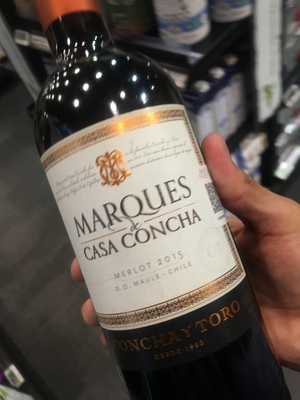marques de casa concha merlot: (37, 11, 255, 392)
